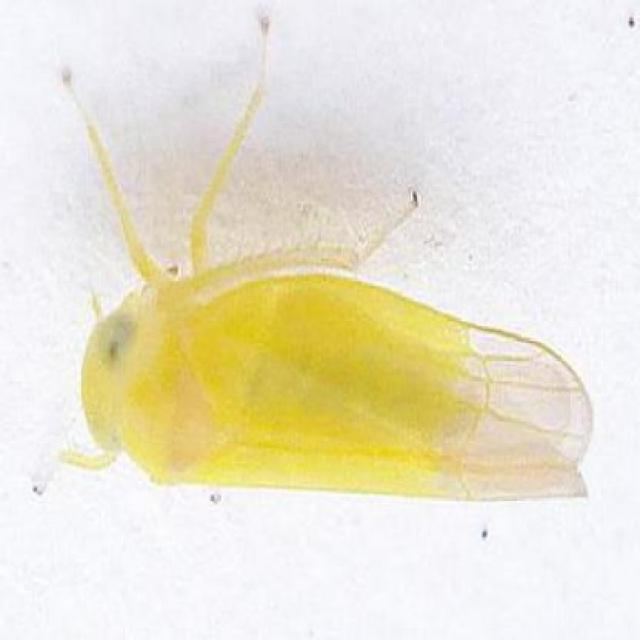green-leafhopper: (60, 255, 600, 514)
